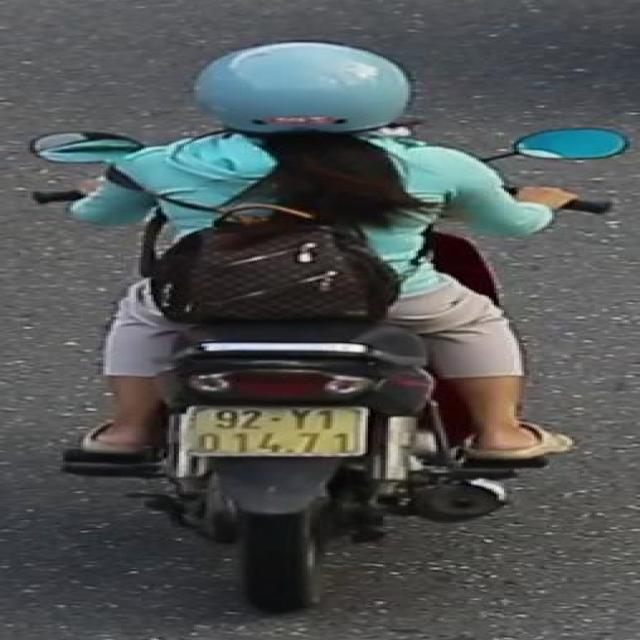LP: (171, 399, 378, 463)
helmet: (182, 36, 424, 150)
